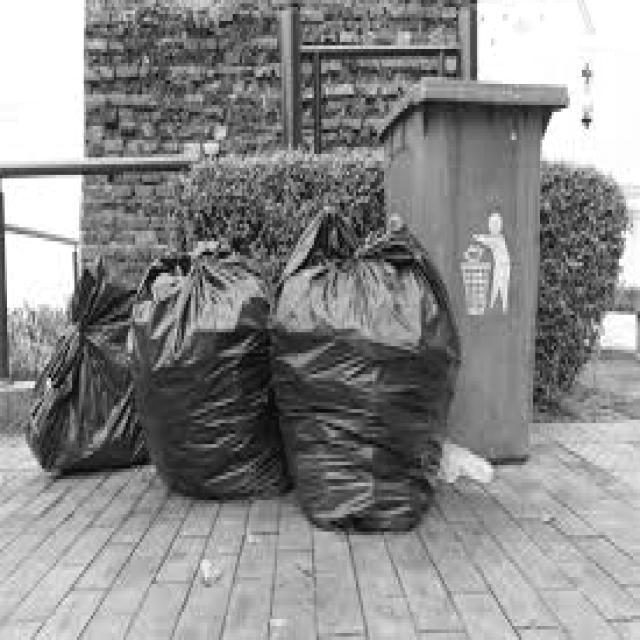high trash: (29, 215, 494, 531)
